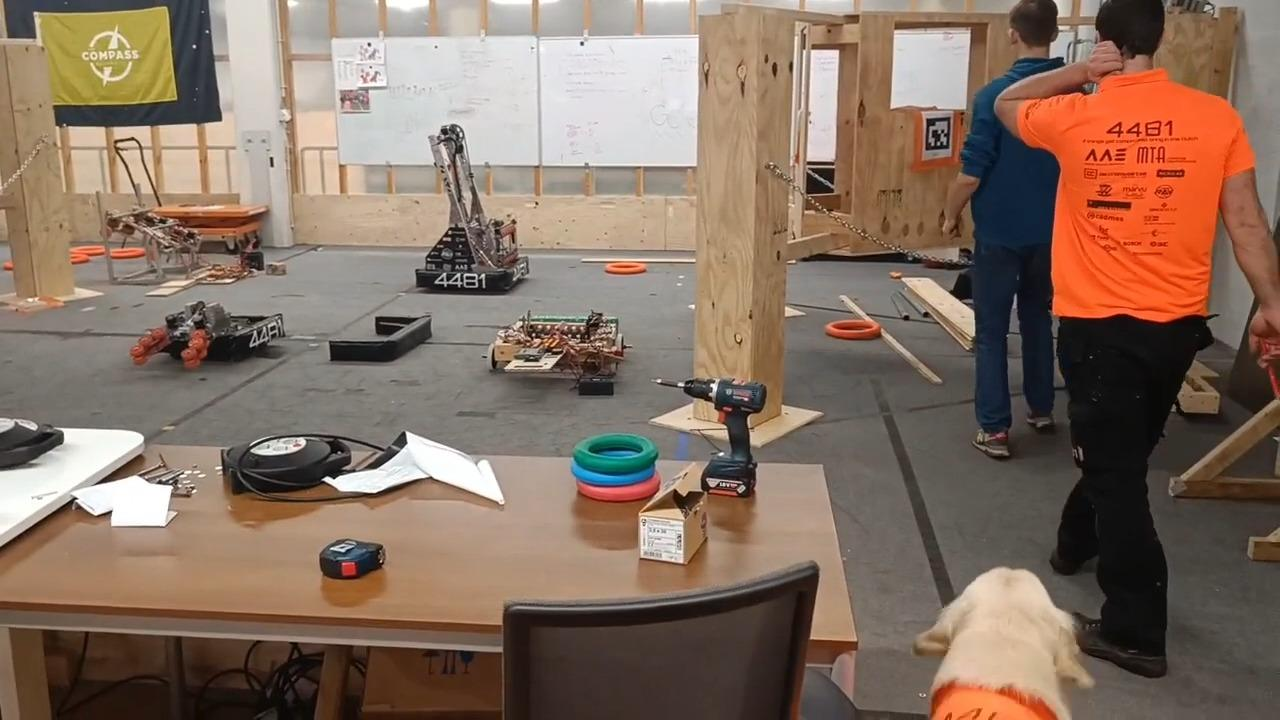robot: (415, 120, 529, 292), (131, 299, 286, 370)
